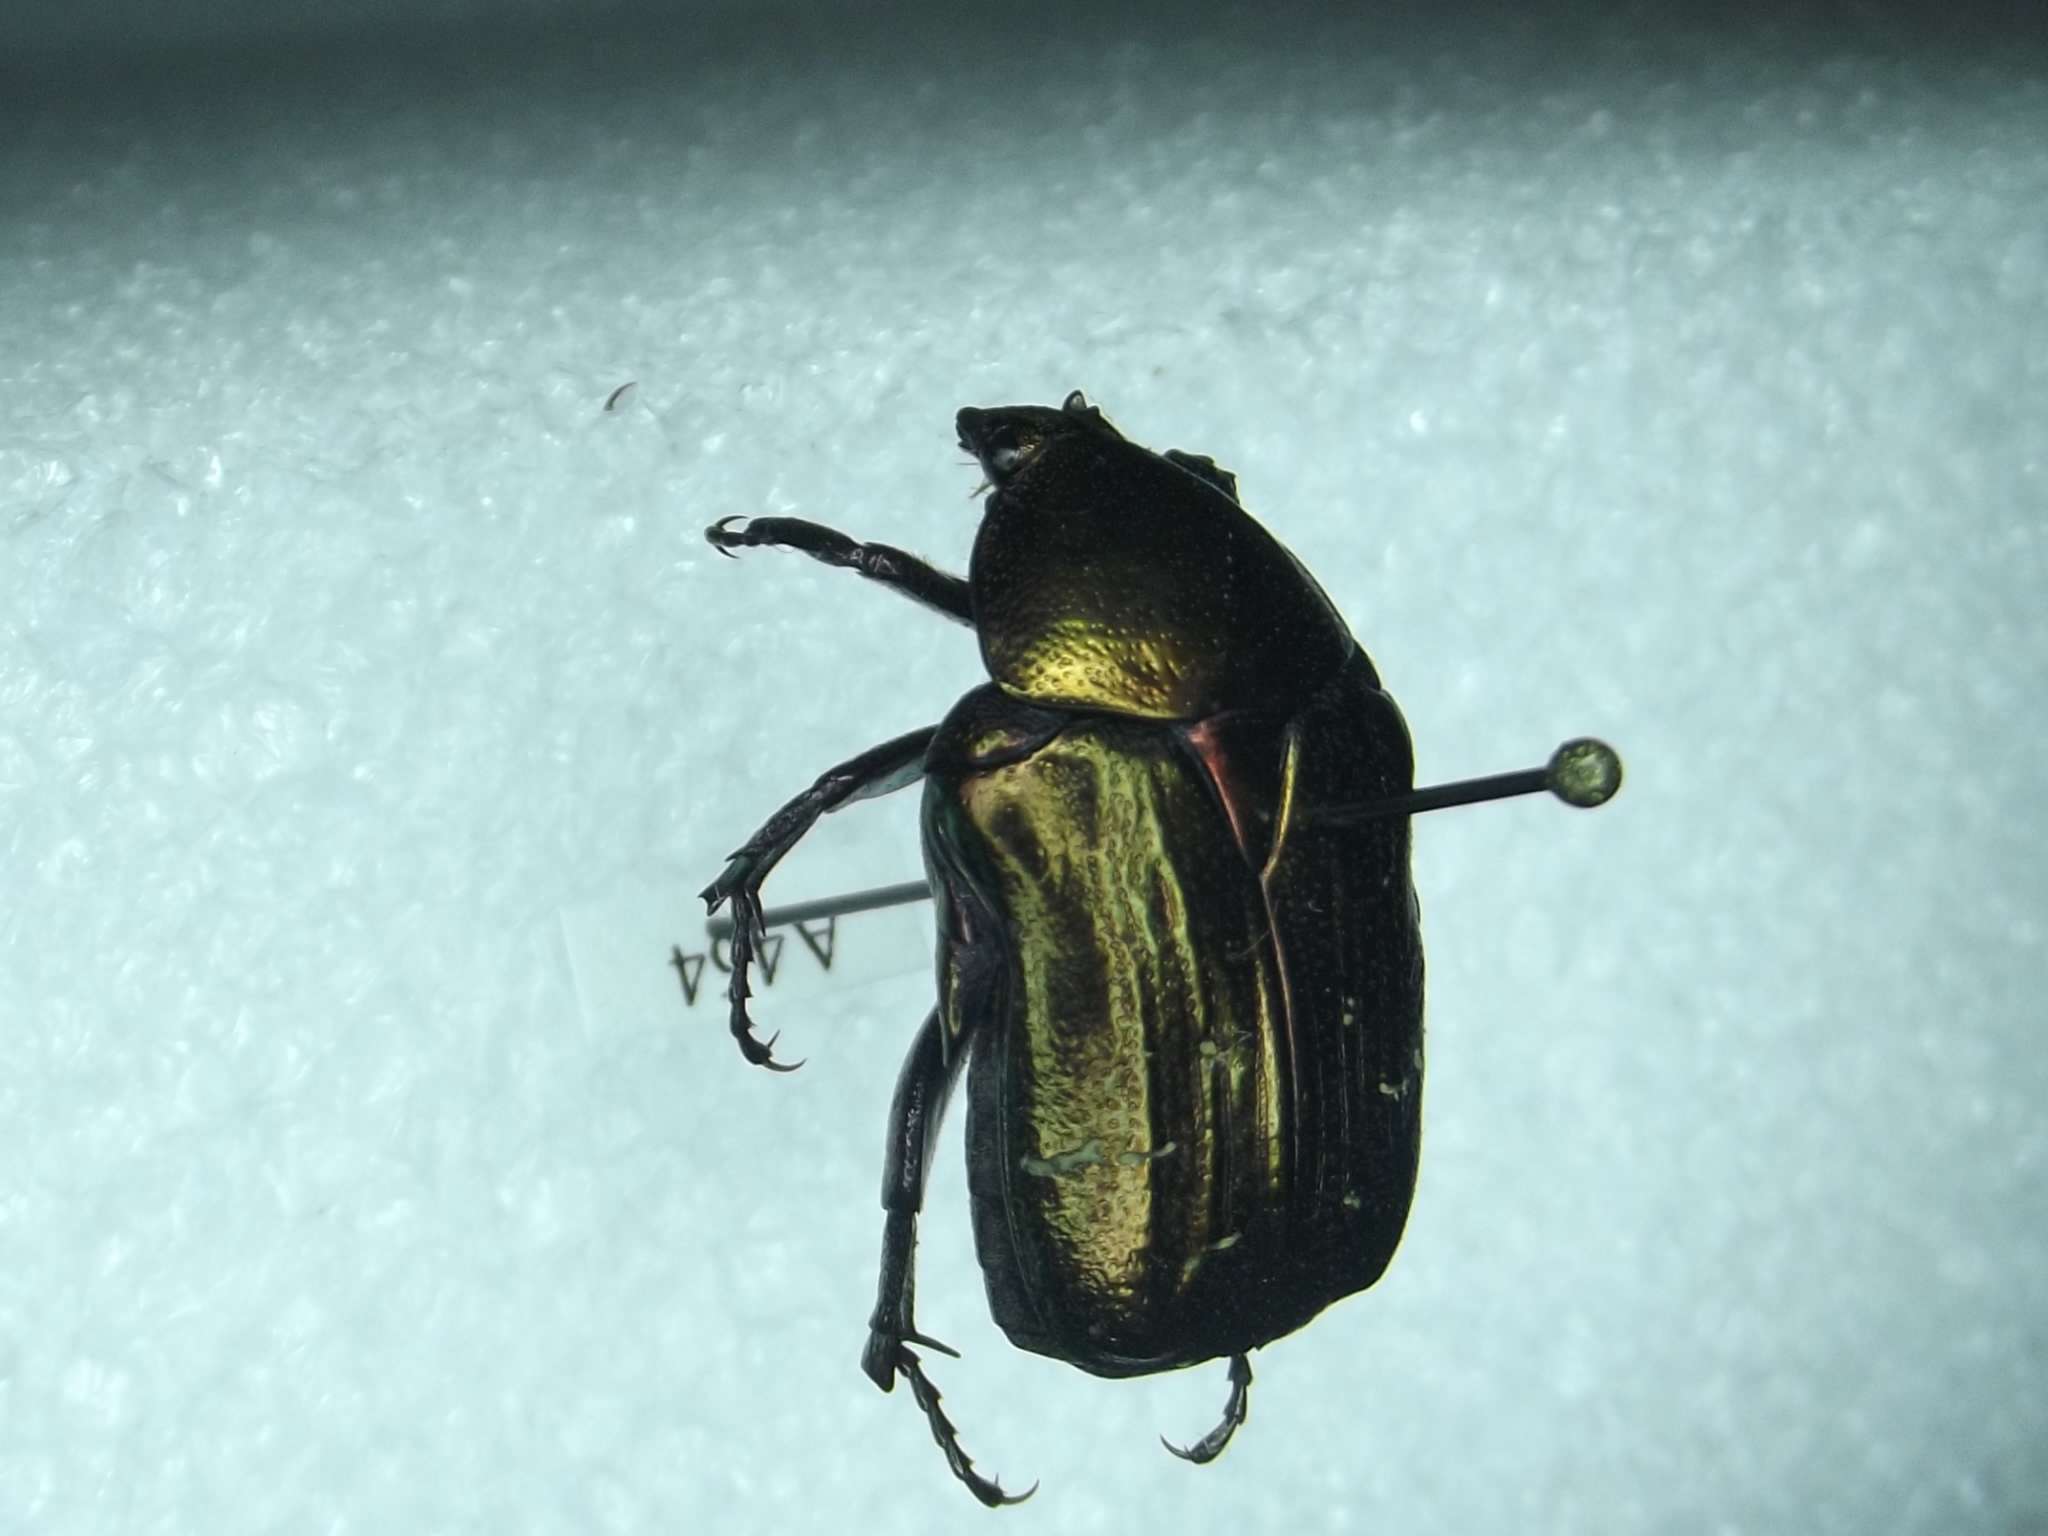Cetonia_kemali: (648, 384, 1453, 1499)
